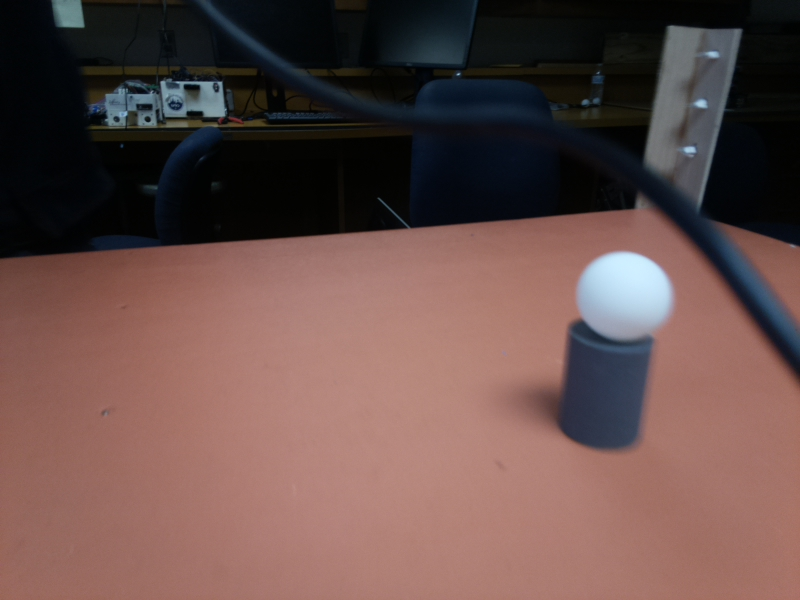corner: (643, 27, 737, 205)
obstacle: (558, 251, 673, 439)
